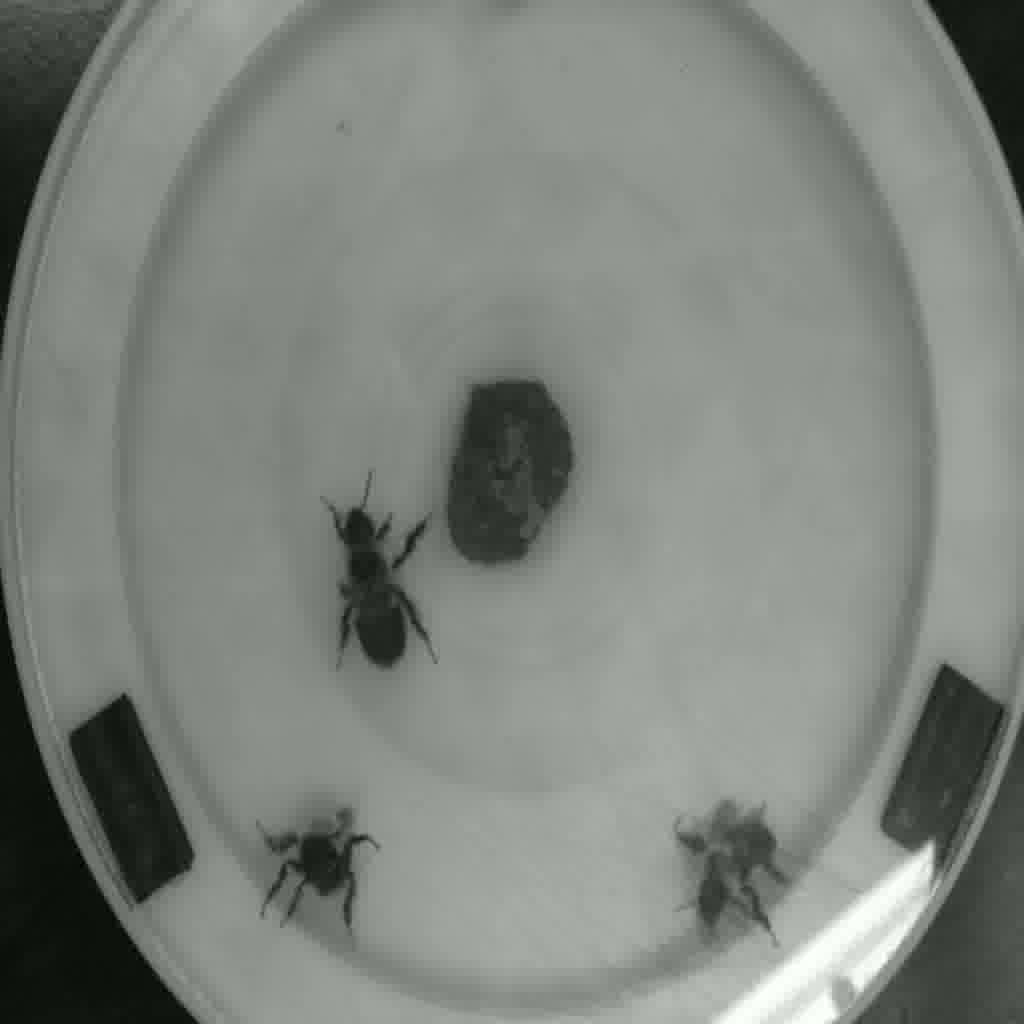bee: (299, 488, 441, 682), (654, 792, 808, 938), (253, 804, 385, 932)
